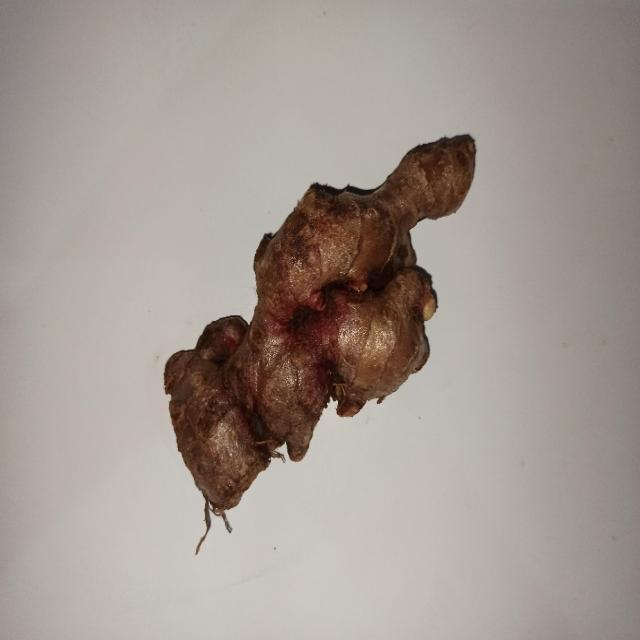ginger: (166, 143, 477, 513)
